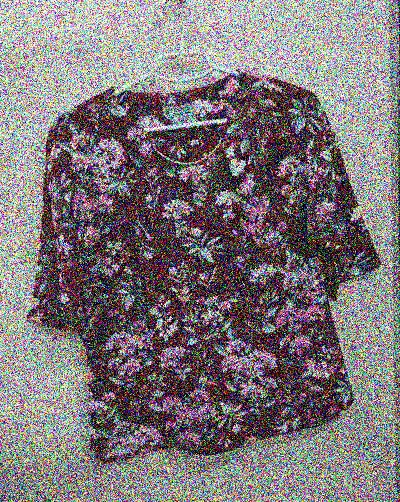Blouse: (23, 46, 388, 479)
